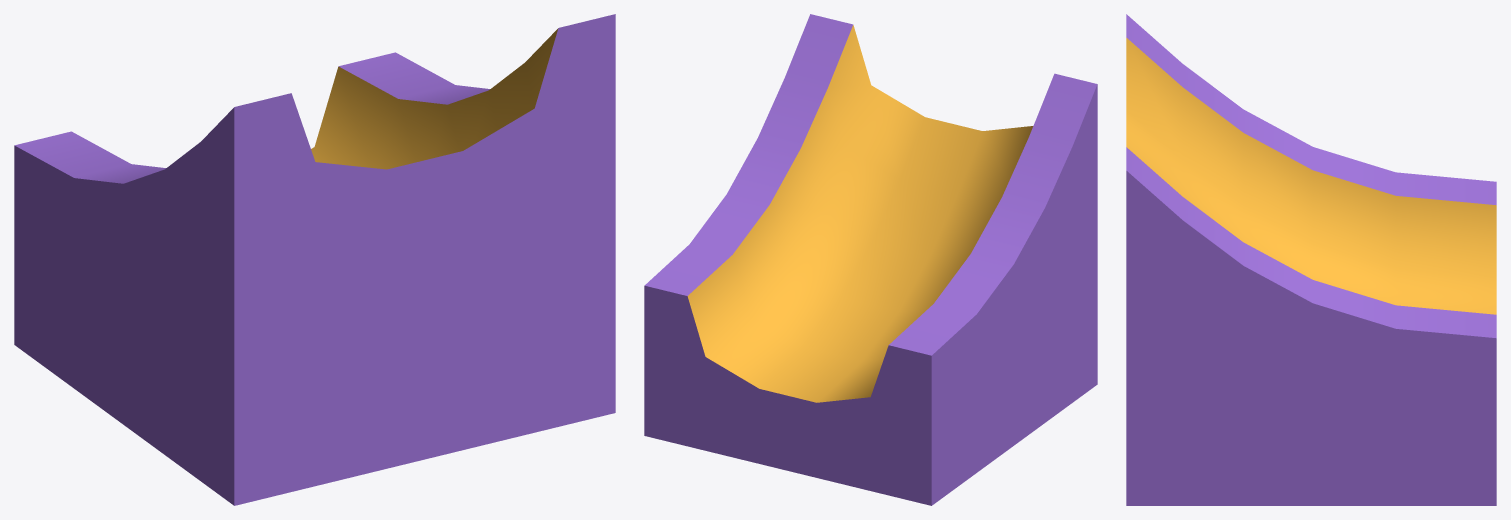
File: kenney-marble-ramp-start-solid-c.glb
The picture shows the model from 3 angles, left to right: view 1: azimuth 30°, elevation 25°; view 2: azimuth 150°, elevation 25°; view 3: azimuth 270°, elevation 25°; orthographic projection. The views are drawn at different scales.
Visible parts, largest first — view 1: ramp-start-solid-c; view 2: ramp-start-solid-c; view 3: ramp-start-solid-c.
Part boxes in pixels (x1,y1,x2,y2): ramp-start-solid-c: [14, 14, 615, 505]; ramp-start-solid-c: [644, 14, 1097, 505]; ramp-start-solid-c: [1126, 14, 1496, 505].
Size of the model in its own units: 1 by 1 by 1.
Materials: 1 (1 with a texture image).
